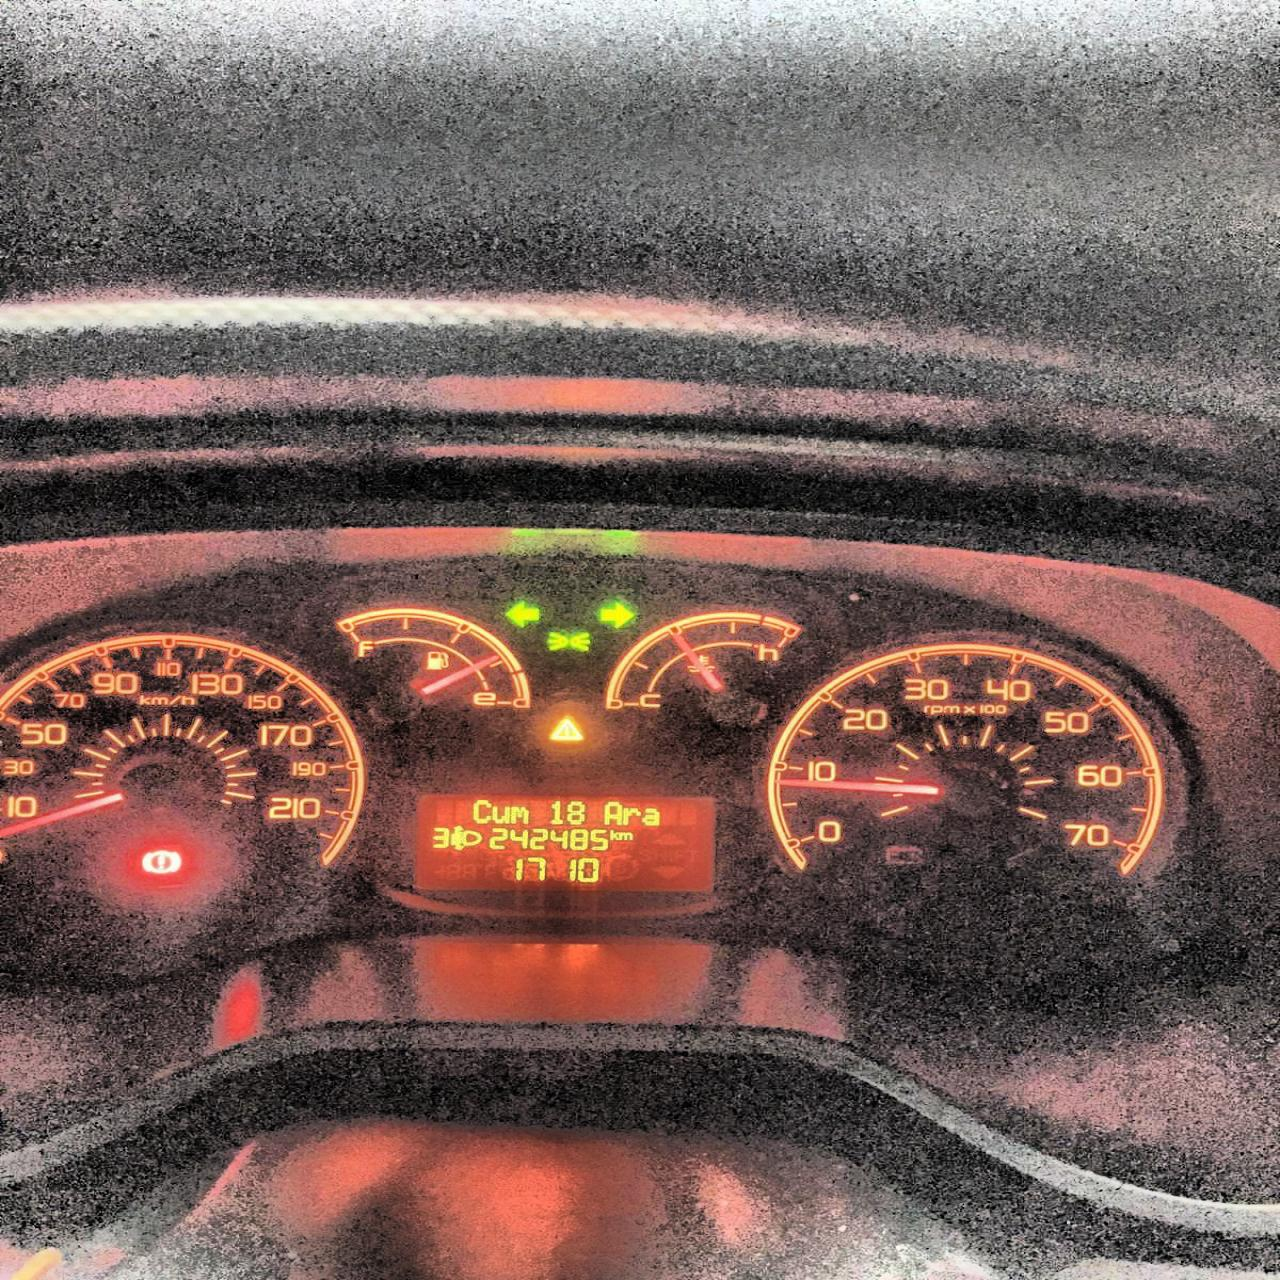0: (577, 856, 601, 883)
1: (546, 798, 563, 825), (561, 856, 577, 881), (510, 855, 524, 880)
2: (527, 828, 549, 851), (486, 826, 506, 851)
3: (430, 825, 450, 849)
4: (546, 828, 567, 850), (508, 828, 527, 849)
5: (588, 828, 607, 851)
7: (525, 855, 546, 880)
8: (564, 798, 586, 825), (568, 828, 587, 851)
X: (469, 797, 491, 824), (600, 798, 621, 826), (640, 806, 661, 826), (490, 803, 509, 825), (621, 804, 640, 825), (509, 805, 527, 824), (618, 830, 633, 842), (607, 828, 618, 840)
odometer: (402, 788, 722, 898)
